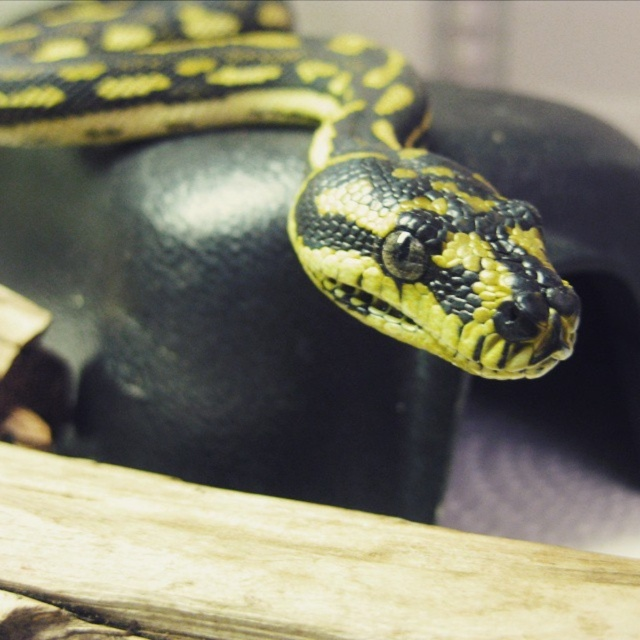Snake: (0, 0, 584, 382)
